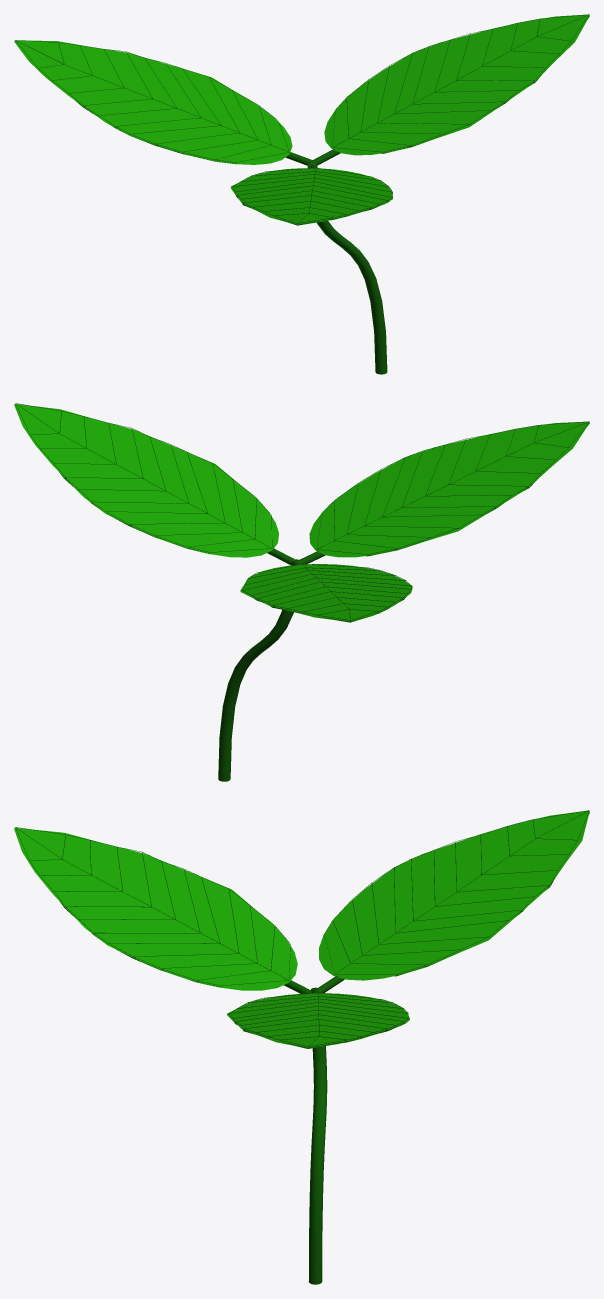
The model's file is unkraut.fbx.
The picture shows the model from 3 angles, top to bottom: view 1: azimuth 30°, elevation 25°; view 2: azimuth 150°, elevation 25°; view 3: azimuth 270°, elevation 25°; orthographic projection. The views are drawn at different scales.
Visible parts, largest first — view 1: BezierCurve; view 2: BezierCurve; view 3: BezierCurve.
Boxes of the visible parts, bbox=[...] form: BezierCurve: bbox=[14, 14, 589, 374]; BezierCurve: bbox=[14, 403, 589, 781]; BezierCurve: bbox=[14, 810, 589, 1284].
Bounding box in the file's own units: 80.47 × 52.57 × 79.03.
